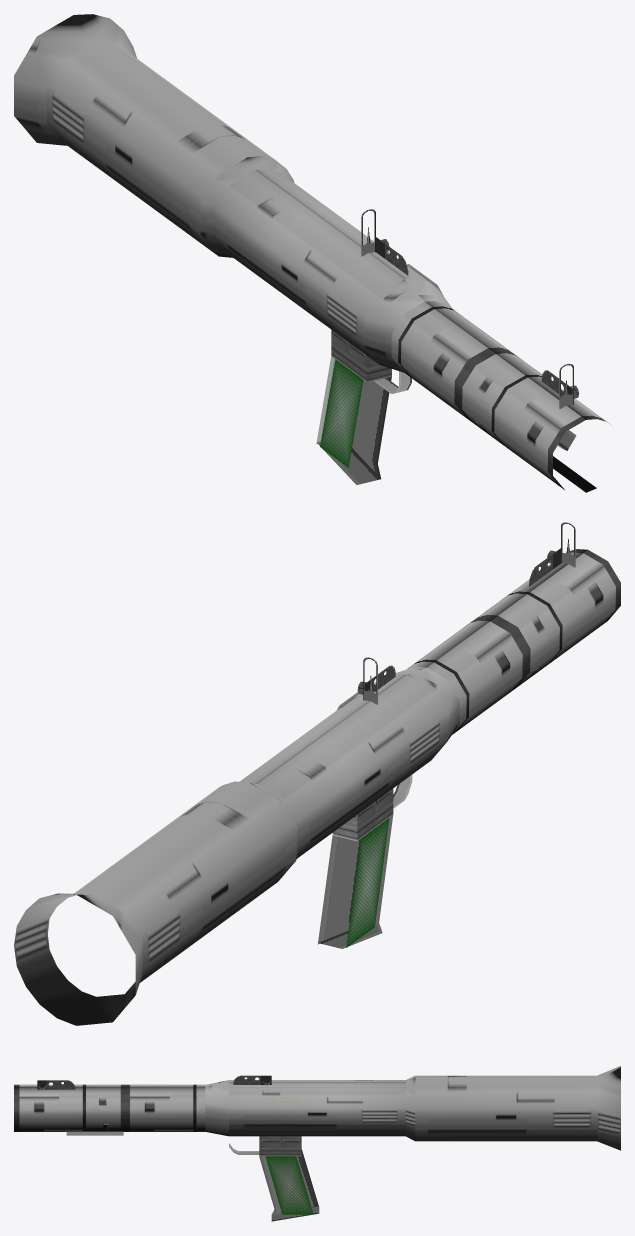
File: gun.glb
3 views of the same model, one above another, from view 1: azimuth 30°, elevation 25°; view 2: azimuth 150°, elevation 25°; view 3: azimuth 270°, elevation 25° (orthographic). The views are drawn at different scales.
Visible parts, largest first — view 1: m4, m3, m11CullBoth, m2, m10, m8, m0CullBothClampSClampT, m1CullBothClampSClampT; view 2: m4, m3, m11CullBoth, m2, m10, m8, m0CullBothClampSClampT, m1CullBothClampSClampT; view 3: m4, m3, m10, m11CullBoth, m2, m8, m0CullBothClampSClampT.
Boxes of the visible parts, bbox=[...] form: m4: bbox=[47, 43, 428, 372]; m3: bbox=[391, 278, 610, 489]; m11CullBoth: bbox=[14, 14, 136, 145]; m2: bbox=[316, 239, 596, 492]; m10: bbox=[320, 359, 363, 467]; m8: bbox=[331, 330, 391, 382]; m0CullBothClampSClampT: bbox=[376, 237, 572, 396]; m1CullBothClampSClampT: bbox=[361, 209, 573, 408]; m4: bbox=[74, 668, 459, 982]; m3: bbox=[395, 549, 620, 734]; m11CullBoth: bbox=[14, 893, 142, 1025]; m2: bbox=[317, 550, 555, 948]; m10: bbox=[346, 818, 389, 947]; m8: bbox=[332, 788, 393, 841]; m0CullBothClampSClampT: bbox=[364, 548, 560, 692]; m1CullBothClampSClampT: bbox=[363, 522, 575, 704]; m4: bbox=[205, 1075, 597, 1141]; m3: bbox=[14, 1082, 228, 1136]; m10: bbox=[265, 1156, 313, 1214]; m11CullBoth: bbox=[597, 1066, 620, 1150]; m2: bbox=[38, 1081, 319, 1221]; m8: bbox=[259, 1136, 301, 1156]; m0CullBothClampSClampT: bbox=[37, 1075, 271, 1089].
Bounding box in the file's own units: 133 × 284 × 968.
12 materials, 12 textured.
